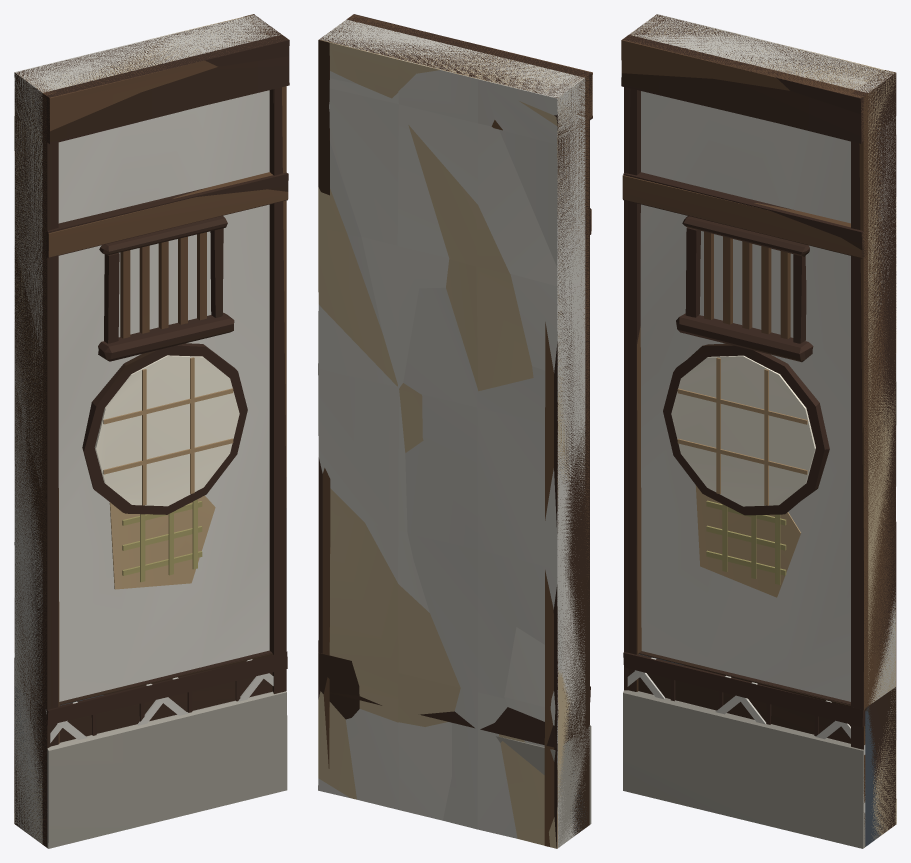
Rendered from wall.plain.glb.
3 renders of one model, left to right at view 1: azimuth 30°, elevation 25°; view 2: azimuth 150°, elevation 25°; view 3: azimuth 330°, elevation 25°, orthographic.
Parts seen in each view (by area): view 1: wall.plain.v0.mesh, wall.plain.v2.mesh, wall.plain.v1.mesh; view 2: wall.plain.v0.mesh, wall.plain.v2.mesh, wall.plain.v1.mesh; view 3: wall.plain.v0.mesh, wall.plain.v2.mesh, wall.plain.v1.mesh.
Part boxes in pixels (x1=…): wall.plain.v0.mesh: x1=14, y1=14, x2=289, y2=845; wall.plain.v2.mesh: x1=14, y1=14, x2=289, y2=848; wall.plain.v1.mesh: x1=14, y1=14, x2=288, y2=847; wall.plain.v0.mesh: x1=318, y1=14, x2=592, y2=847; wall.plain.v2.mesh: x1=318, y1=16, x2=592, y2=848; wall.plain.v1.mesh: x1=318, y1=14, x2=592, y2=848; wall.plain.v0.mesh: x1=621, y1=14, x2=896, y2=835; wall.plain.v2.mesh: x1=621, y1=15, x2=896, y2=848; wall.plain.v1.mesh: x1=621, y1=15, x2=896, y2=846.
Size of the model in its own units: 0.9999 by 3 by 0.2792.
